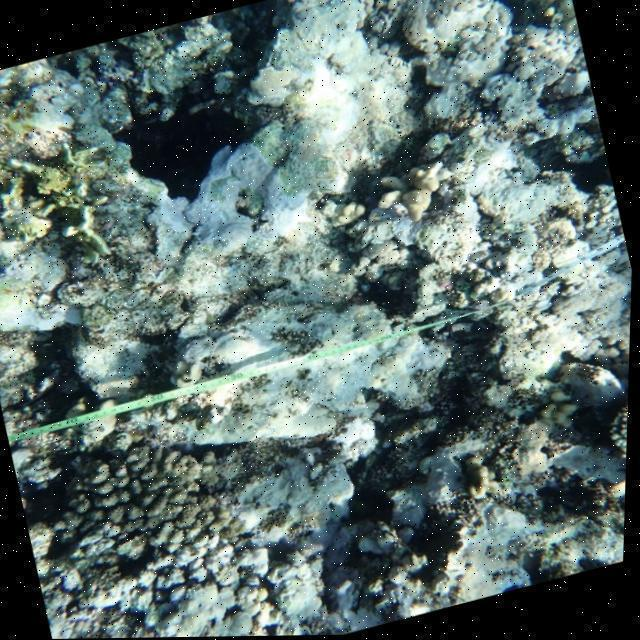Bleached Coral: (362, 147, 637, 390), (158, 264, 456, 485), (36, 490, 352, 640), (370, 0, 607, 193), (139, 124, 339, 267)
Dead Coral: (53, 431, 236, 563)
